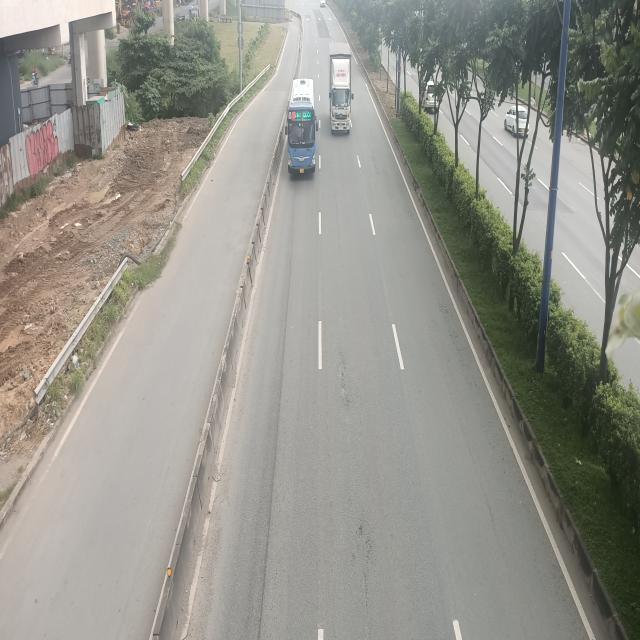coach: (285, 75, 318, 174)
truck: (328, 45, 354, 135)
